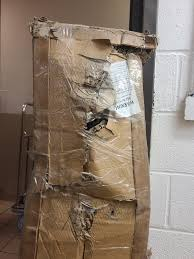damaged package: (87, 37, 157, 65), (82, 107, 110, 136), (79, 200, 97, 232)
